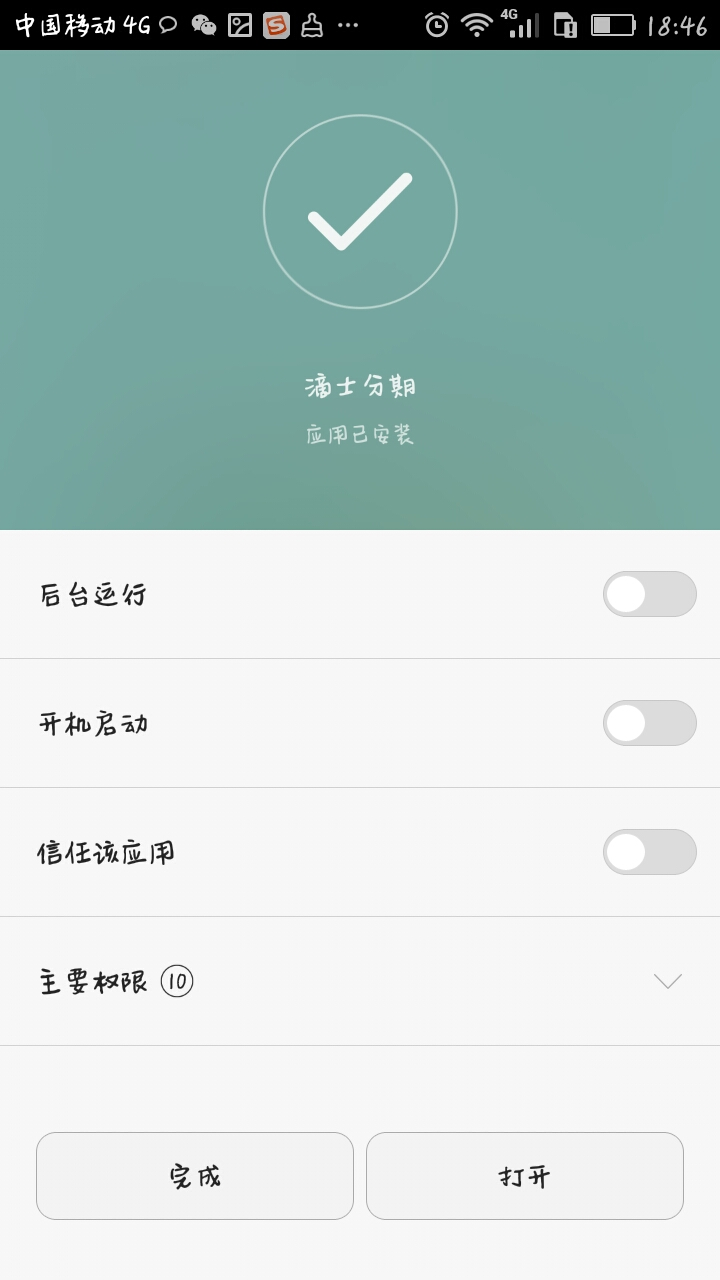button: (362, 1123, 693, 1229), (27, 1125, 358, 1223)
imgbutton: (636, 952, 702, 1015)
imgview: (235, 103, 478, 325)
textview: (1, 527, 720, 1043), (274, 356, 456, 461)
